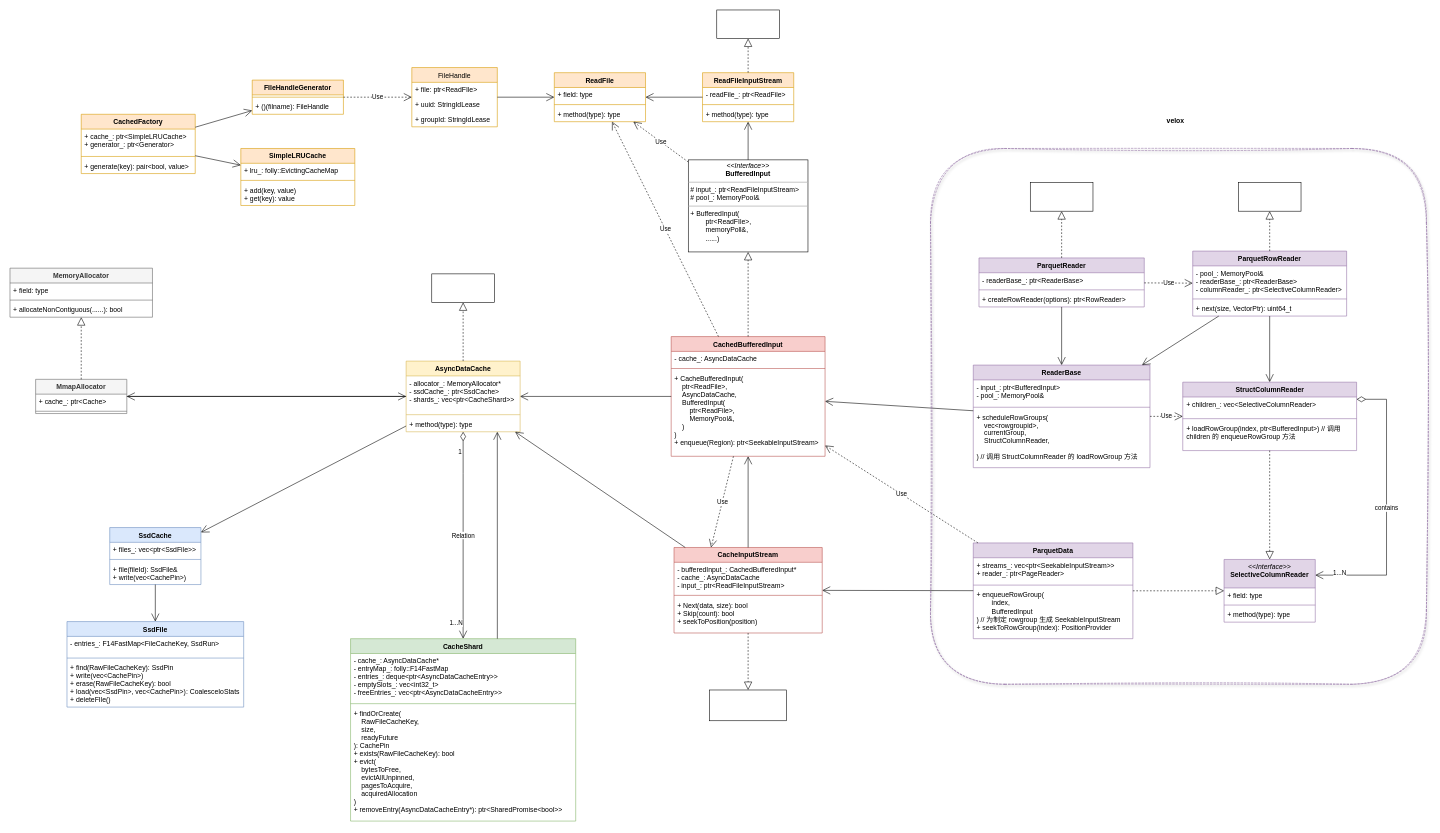
The diagram is 1440 pixels wide and 833 high, and some of its shapes have lost their labels. Each missing label, with the centre of its shape:
«interface» Cache: the point at 462,287
«interface» InputStream: the point at 747,23
«interface» Reader: the point at 1061,196
«interface» RowReader: the point at 1269,196
«interface» SeekableInputStream: the point at 748,705
